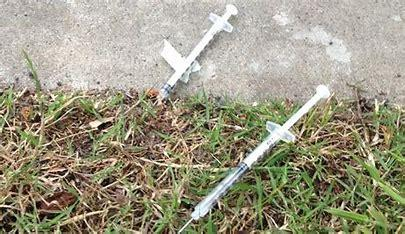Syringe: (177, 81, 334, 232)
